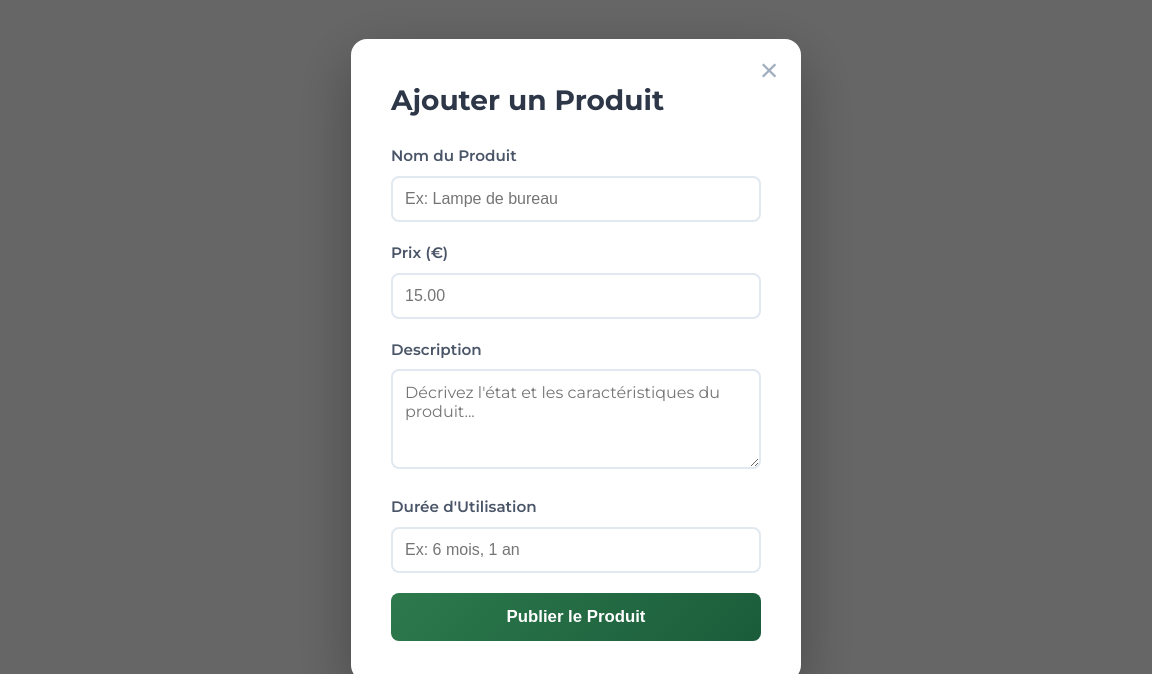
AddProductModal Component › shows error message when product creation fails
The image size is (1152, 674).
Type "Desk Lamp" into the field with placeholder "Ex: Lampe de bureau".
click(576, 199); type("Desk Lamp")  # box 391,176 -> 761,222
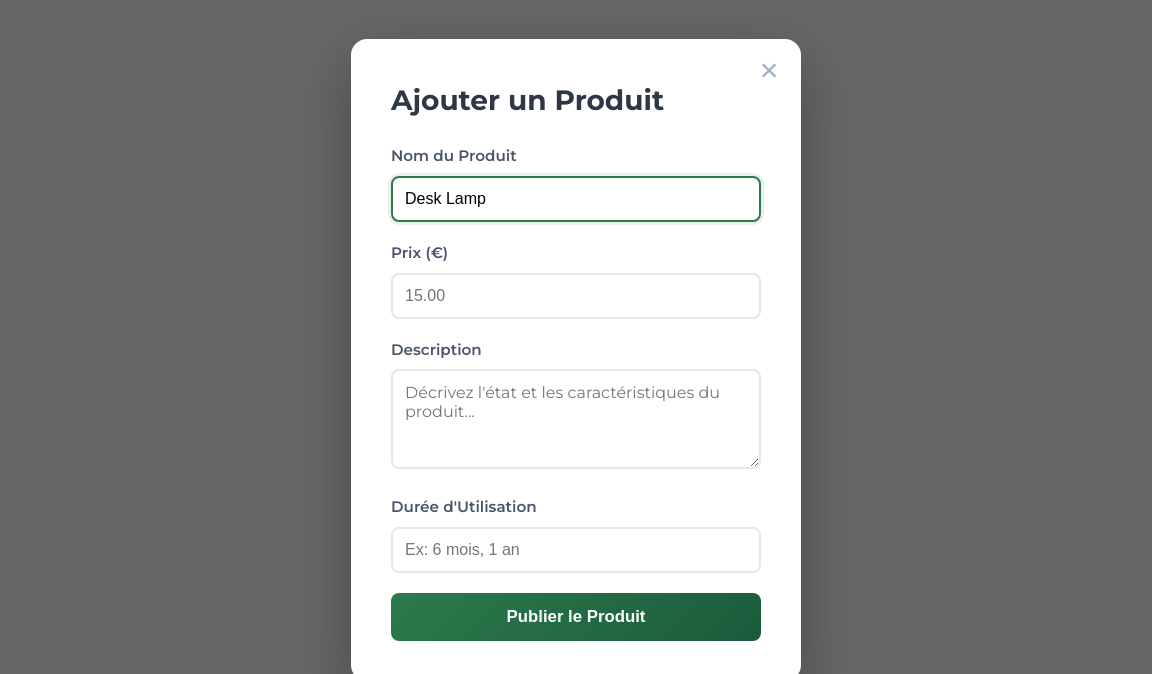
Type "25.50" into the number field with placeholder "15.00".
click(576, 296); type("25.50")  # box 391,272 -> 761,318
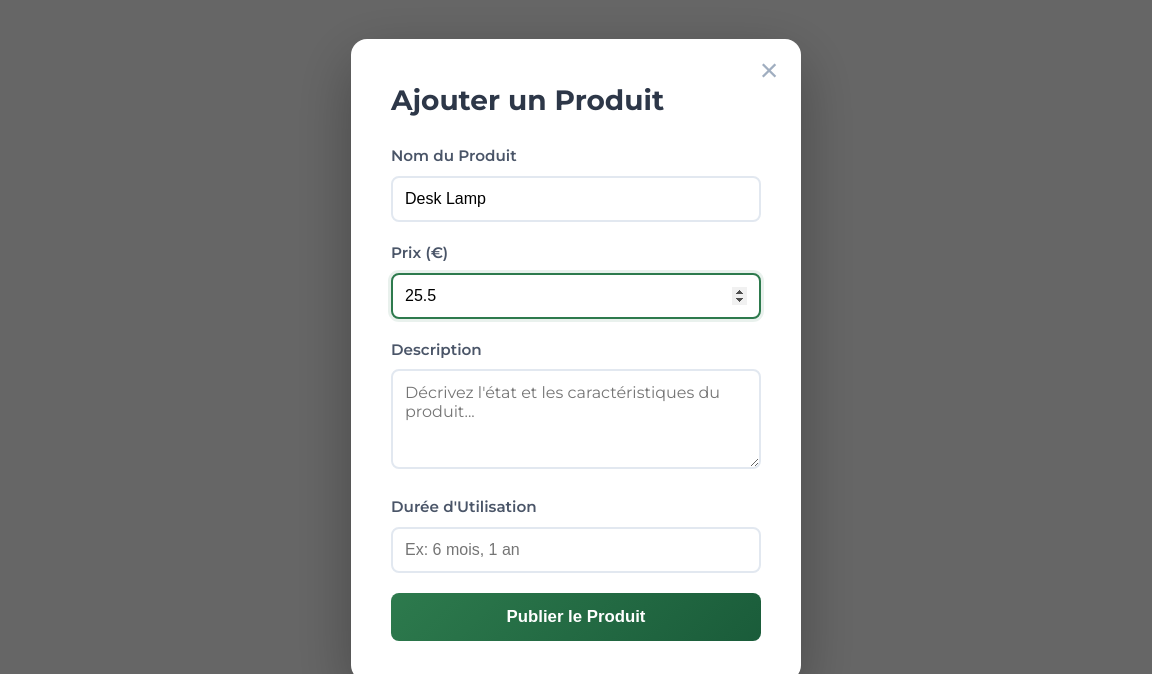
Type "Good condition, LED lamp" into the text box with placeholder "Décrivez l'état et les caractéristiques du produit...".
click(576, 419); type("Good condition, LED lamp")  # box 391,369 -> 761,469
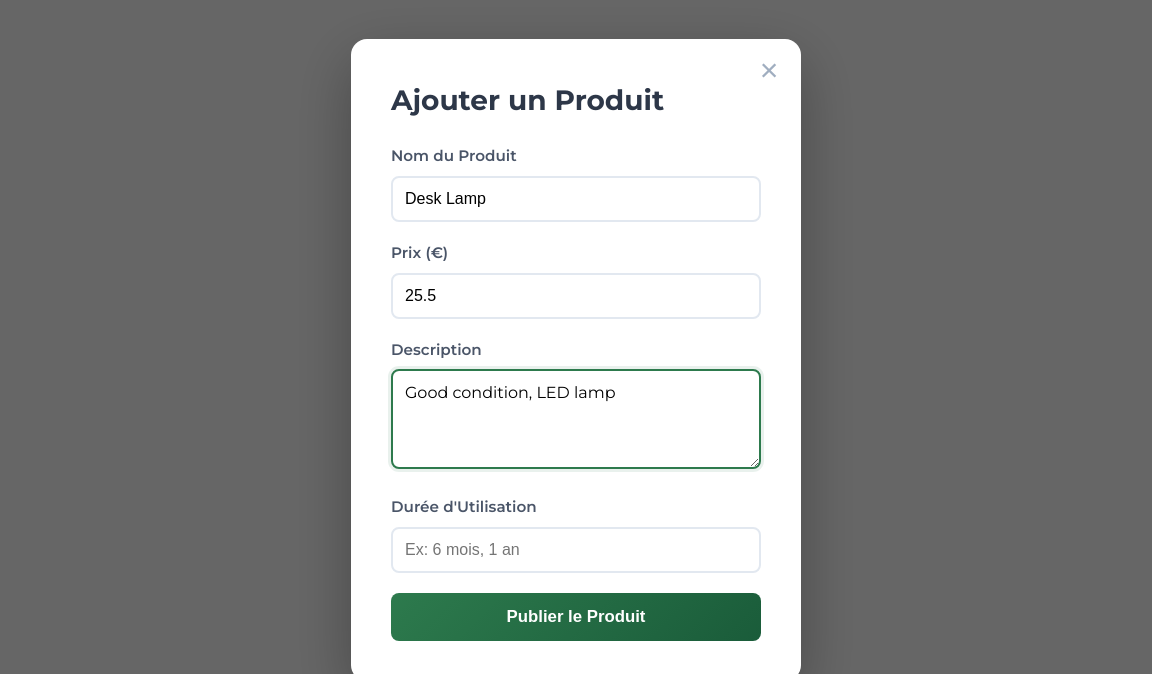
Type "6 mois" into the field with placeholder "Ex: 6 mois, 1 an".
click(576, 550); type("6 mois")  # box 391,527 -> 761,573
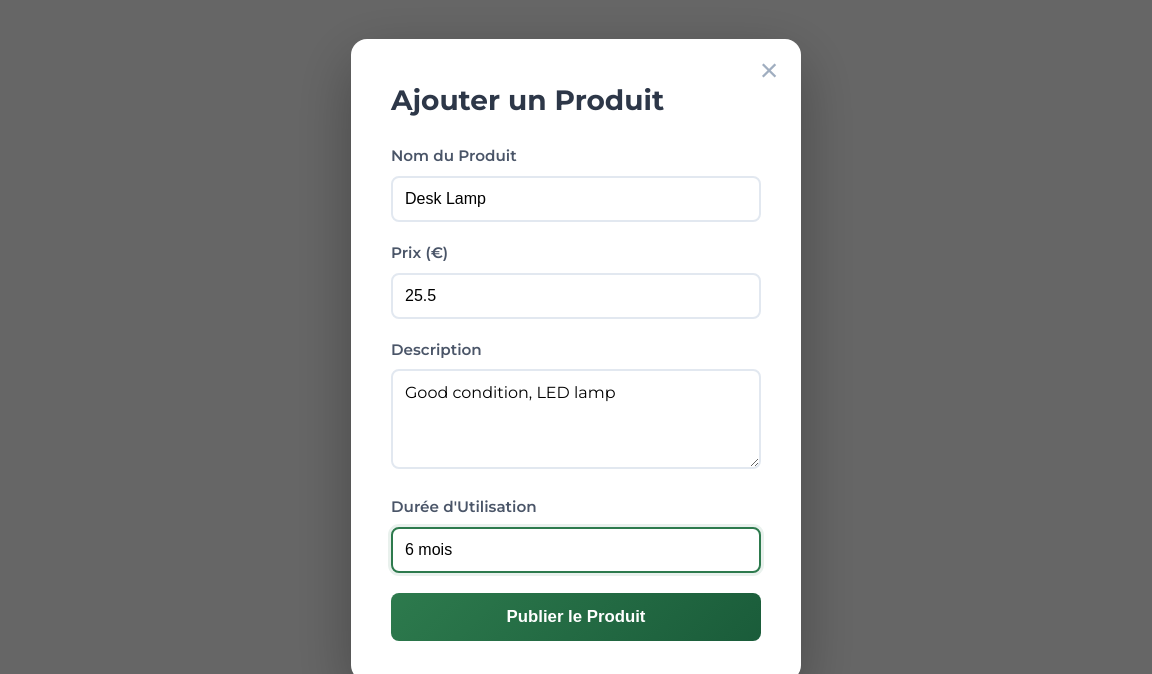
Click the button "Publier le Produit".
click(576, 617)  # box 391,593 -> 761,641
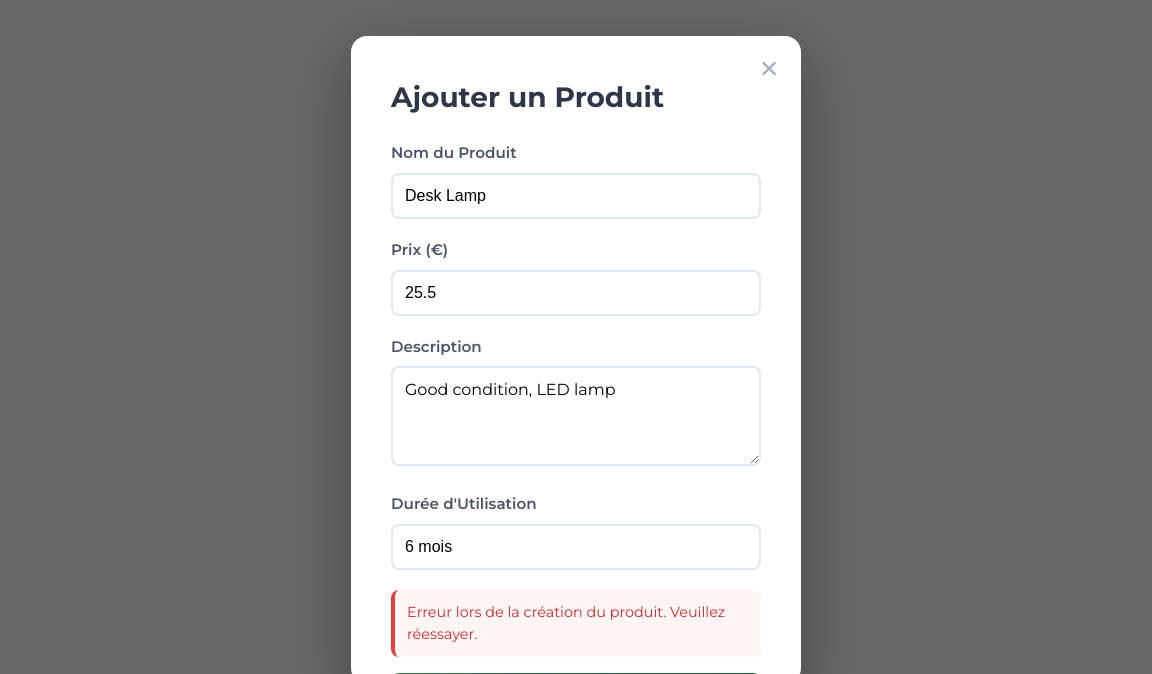
expect the text "Erreur lors de la création du produit. Veuillez réessayer." is shown: met, box 391,590 -> 761,657
